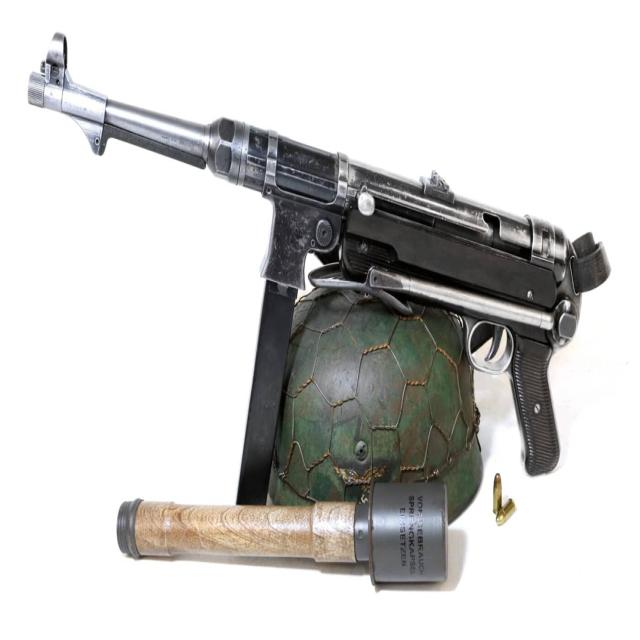SMG: (27, 33, 611, 505)
